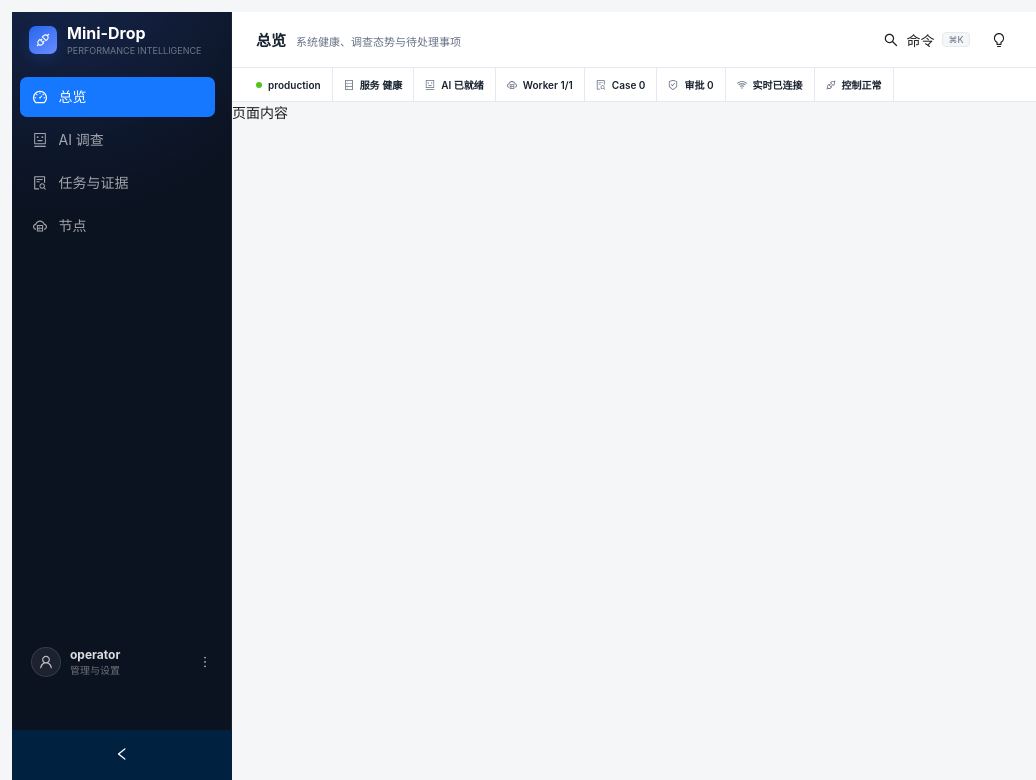
AppLayout navigation › keeps daily work in the primary navigation and management in one menu
Check: the menu items read "总览", "AI 调查", "任务与证据", "节点", in this order, box x1=20 y1=77 x2=215 y2=117; x1=33 y1=131 x2=104 y2=148; x1=33 y1=174 x2=128 y2=191; x1=33 y1=217 x2=86 y2=234
Check: the text "operator" is shown, box x1=70 y1=647 x2=120 y2=662
Click the button with aria-label "打开管理菜单" at point(122, 662), box x1=20 y1=635 x2=223 y2=689
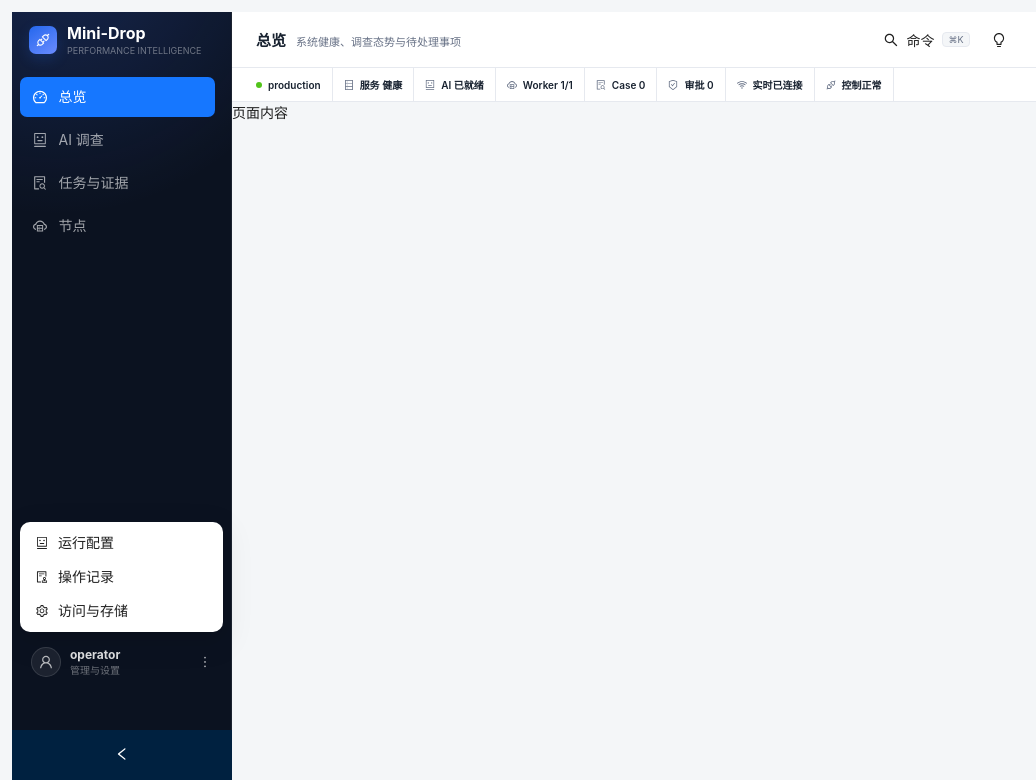
Check: the menu item "运行配置" is shown, box x1=36 y1=534 x2=114 y2=551
Check: the menu item "操作记录" is shown, box x1=36 y1=568 x2=114 y2=585
Check: the menu item "访问与存储" is shown, box x1=36 y1=602 x2=128 y2=619
